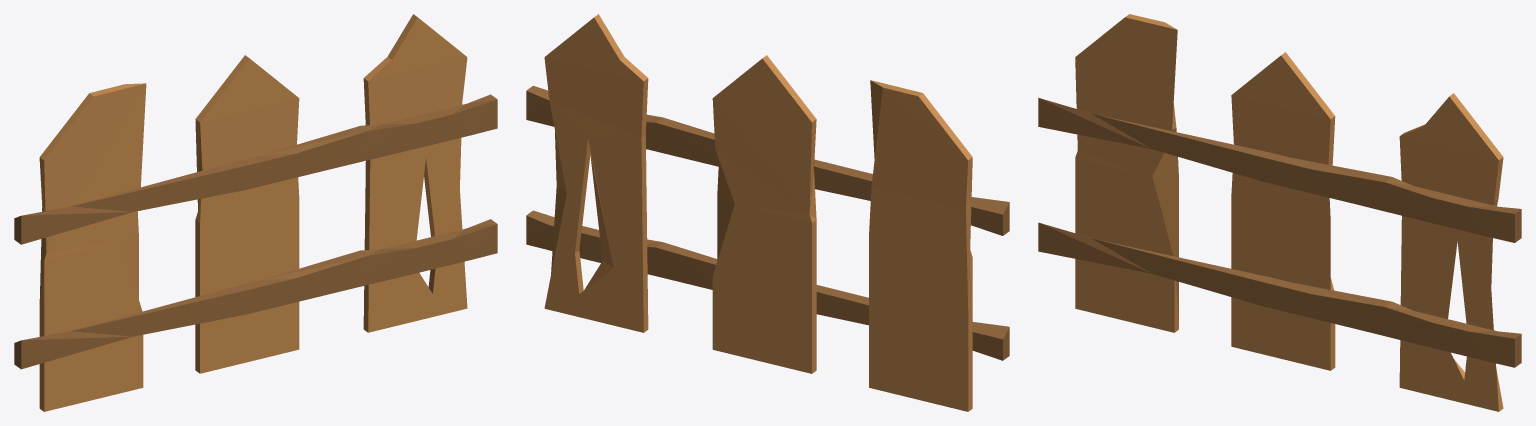
The model's file is Fence2.fbx.
3 renders of one model, left to right at view 1: azimuth 30°, elevation 25°; view 2: azimuth 150°, elevation 25°; view 3: azimuth 330°, elevation 25°, orthographic.
Parts seen in each view (by area): view 1: Group4, Group2, Group3, Group5, Group6; view 2: Group4, Group2, Group3, Group6, Group5; view 3: Group4, Group2, Group3, Group5, Group6.
Part boxes in pixels (bbox=[...]): Group4: bbox=[39, 83, 146, 411]; Group2: bbox=[195, 55, 299, 373]; Group3: bbox=[363, 14, 467, 332]; Group5: bbox=[14, 94, 497, 244]; Group6: bbox=[14, 219, 497, 369]; Group4: bbox=[869, 80, 972, 411]; Group2: bbox=[712, 55, 816, 373]; Group3: bbox=[544, 14, 648, 332]; Group6: bbox=[526, 210, 1009, 360]; Group5: bbox=[526, 86, 1009, 235]; Group4: bbox=[1075, 14, 1178, 332]; Group2: bbox=[1231, 52, 1335, 370]; Group3: bbox=[1399, 93, 1503, 411]; Group5: bbox=[1038, 98, 1521, 242]; Group6: bbox=[1038, 222, 1521, 367].
Bounding box in the file's own units: 1200 × 731 × 52.52.
